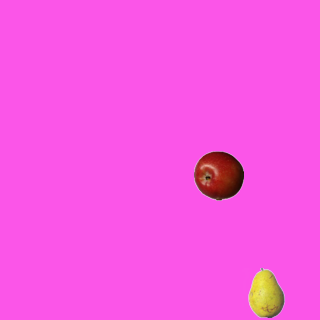Apple Braeburn: (193, 150, 243, 200)
Pear Monster: (241, 267, 291, 317)
